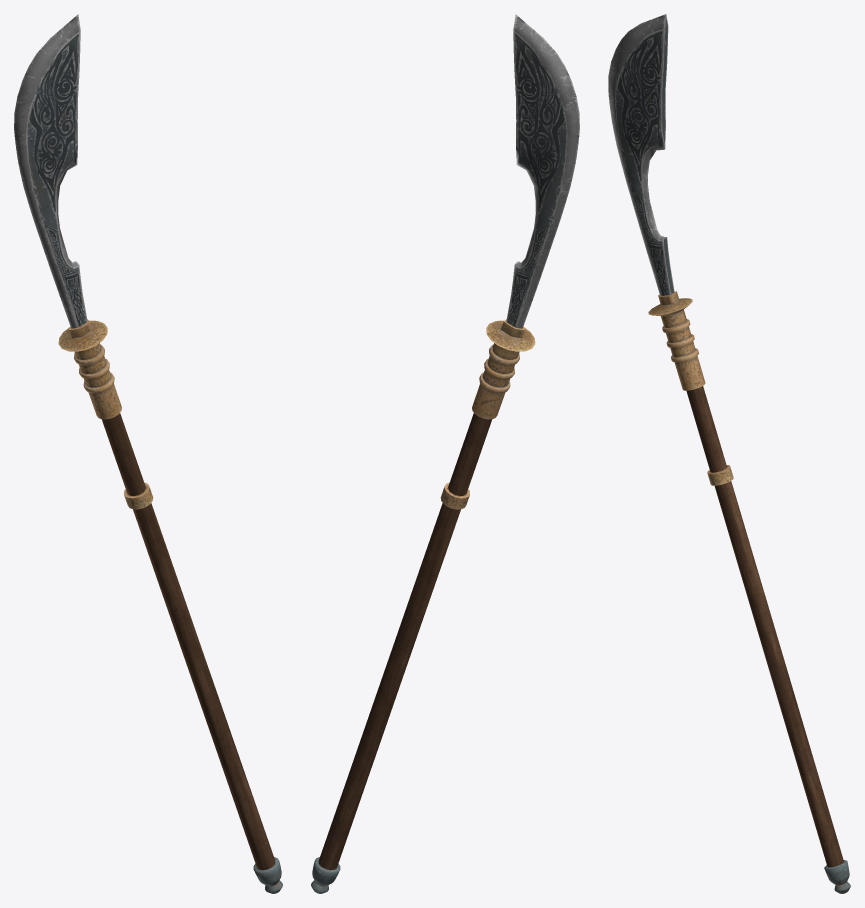
The model's file is guand1.glb.
3 renders of one model, left to right at view 1: azimuth 30°, elevation 25°; view 2: azimuth 150°, elevation 25°; view 3: azimuth 330°, elevation 25°, orthographic. The views are drawn at different scales.
Visible parts, largest first — view 1: guand1_common_full; view 2: guand1_common_full; view 3: guand1_common_full.
Boxes of the visible parts, x1,y1,x2,y2 form: guand1_common_full: [14, 14, 282, 893]; guand1_common_full: [311, 14, 579, 893]; guand1_common_full: [608, 14, 850, 893].
Bounding box in the file's own units: 22.82 × 75.48 × 3.82.
Materials: 1 (1 with a texture image).
